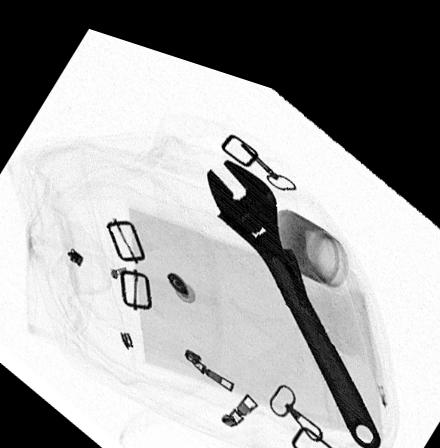Wrench: (205, 140, 382, 428)
